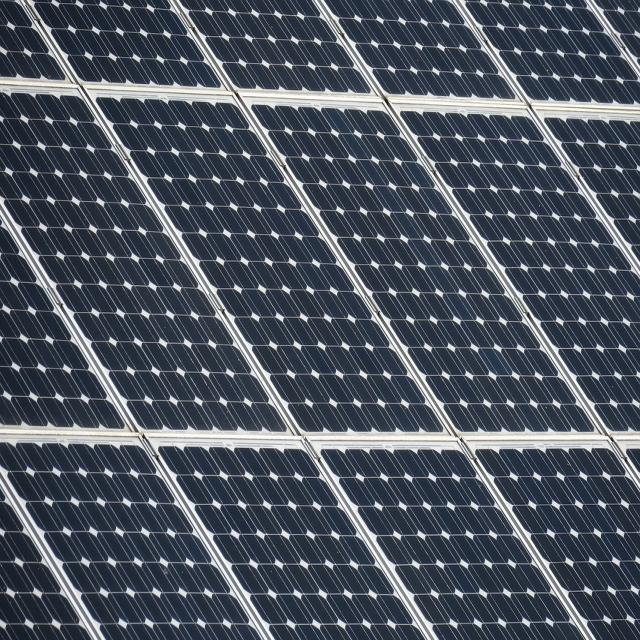clean-solar-panel: (257, 107, 589, 431)
